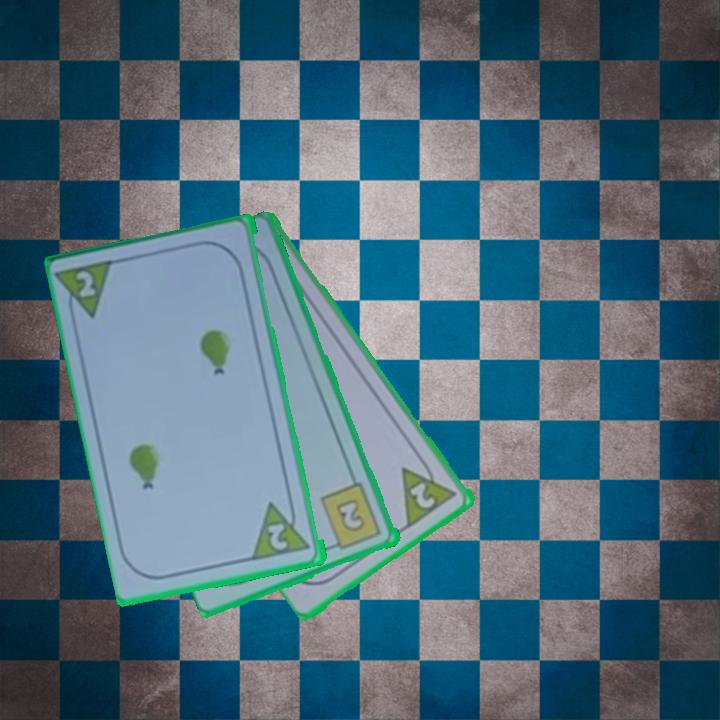2b: (317, 479, 385, 553)
2p: (398, 452, 461, 531), (55, 256, 120, 327), (264, 520, 291, 554)
